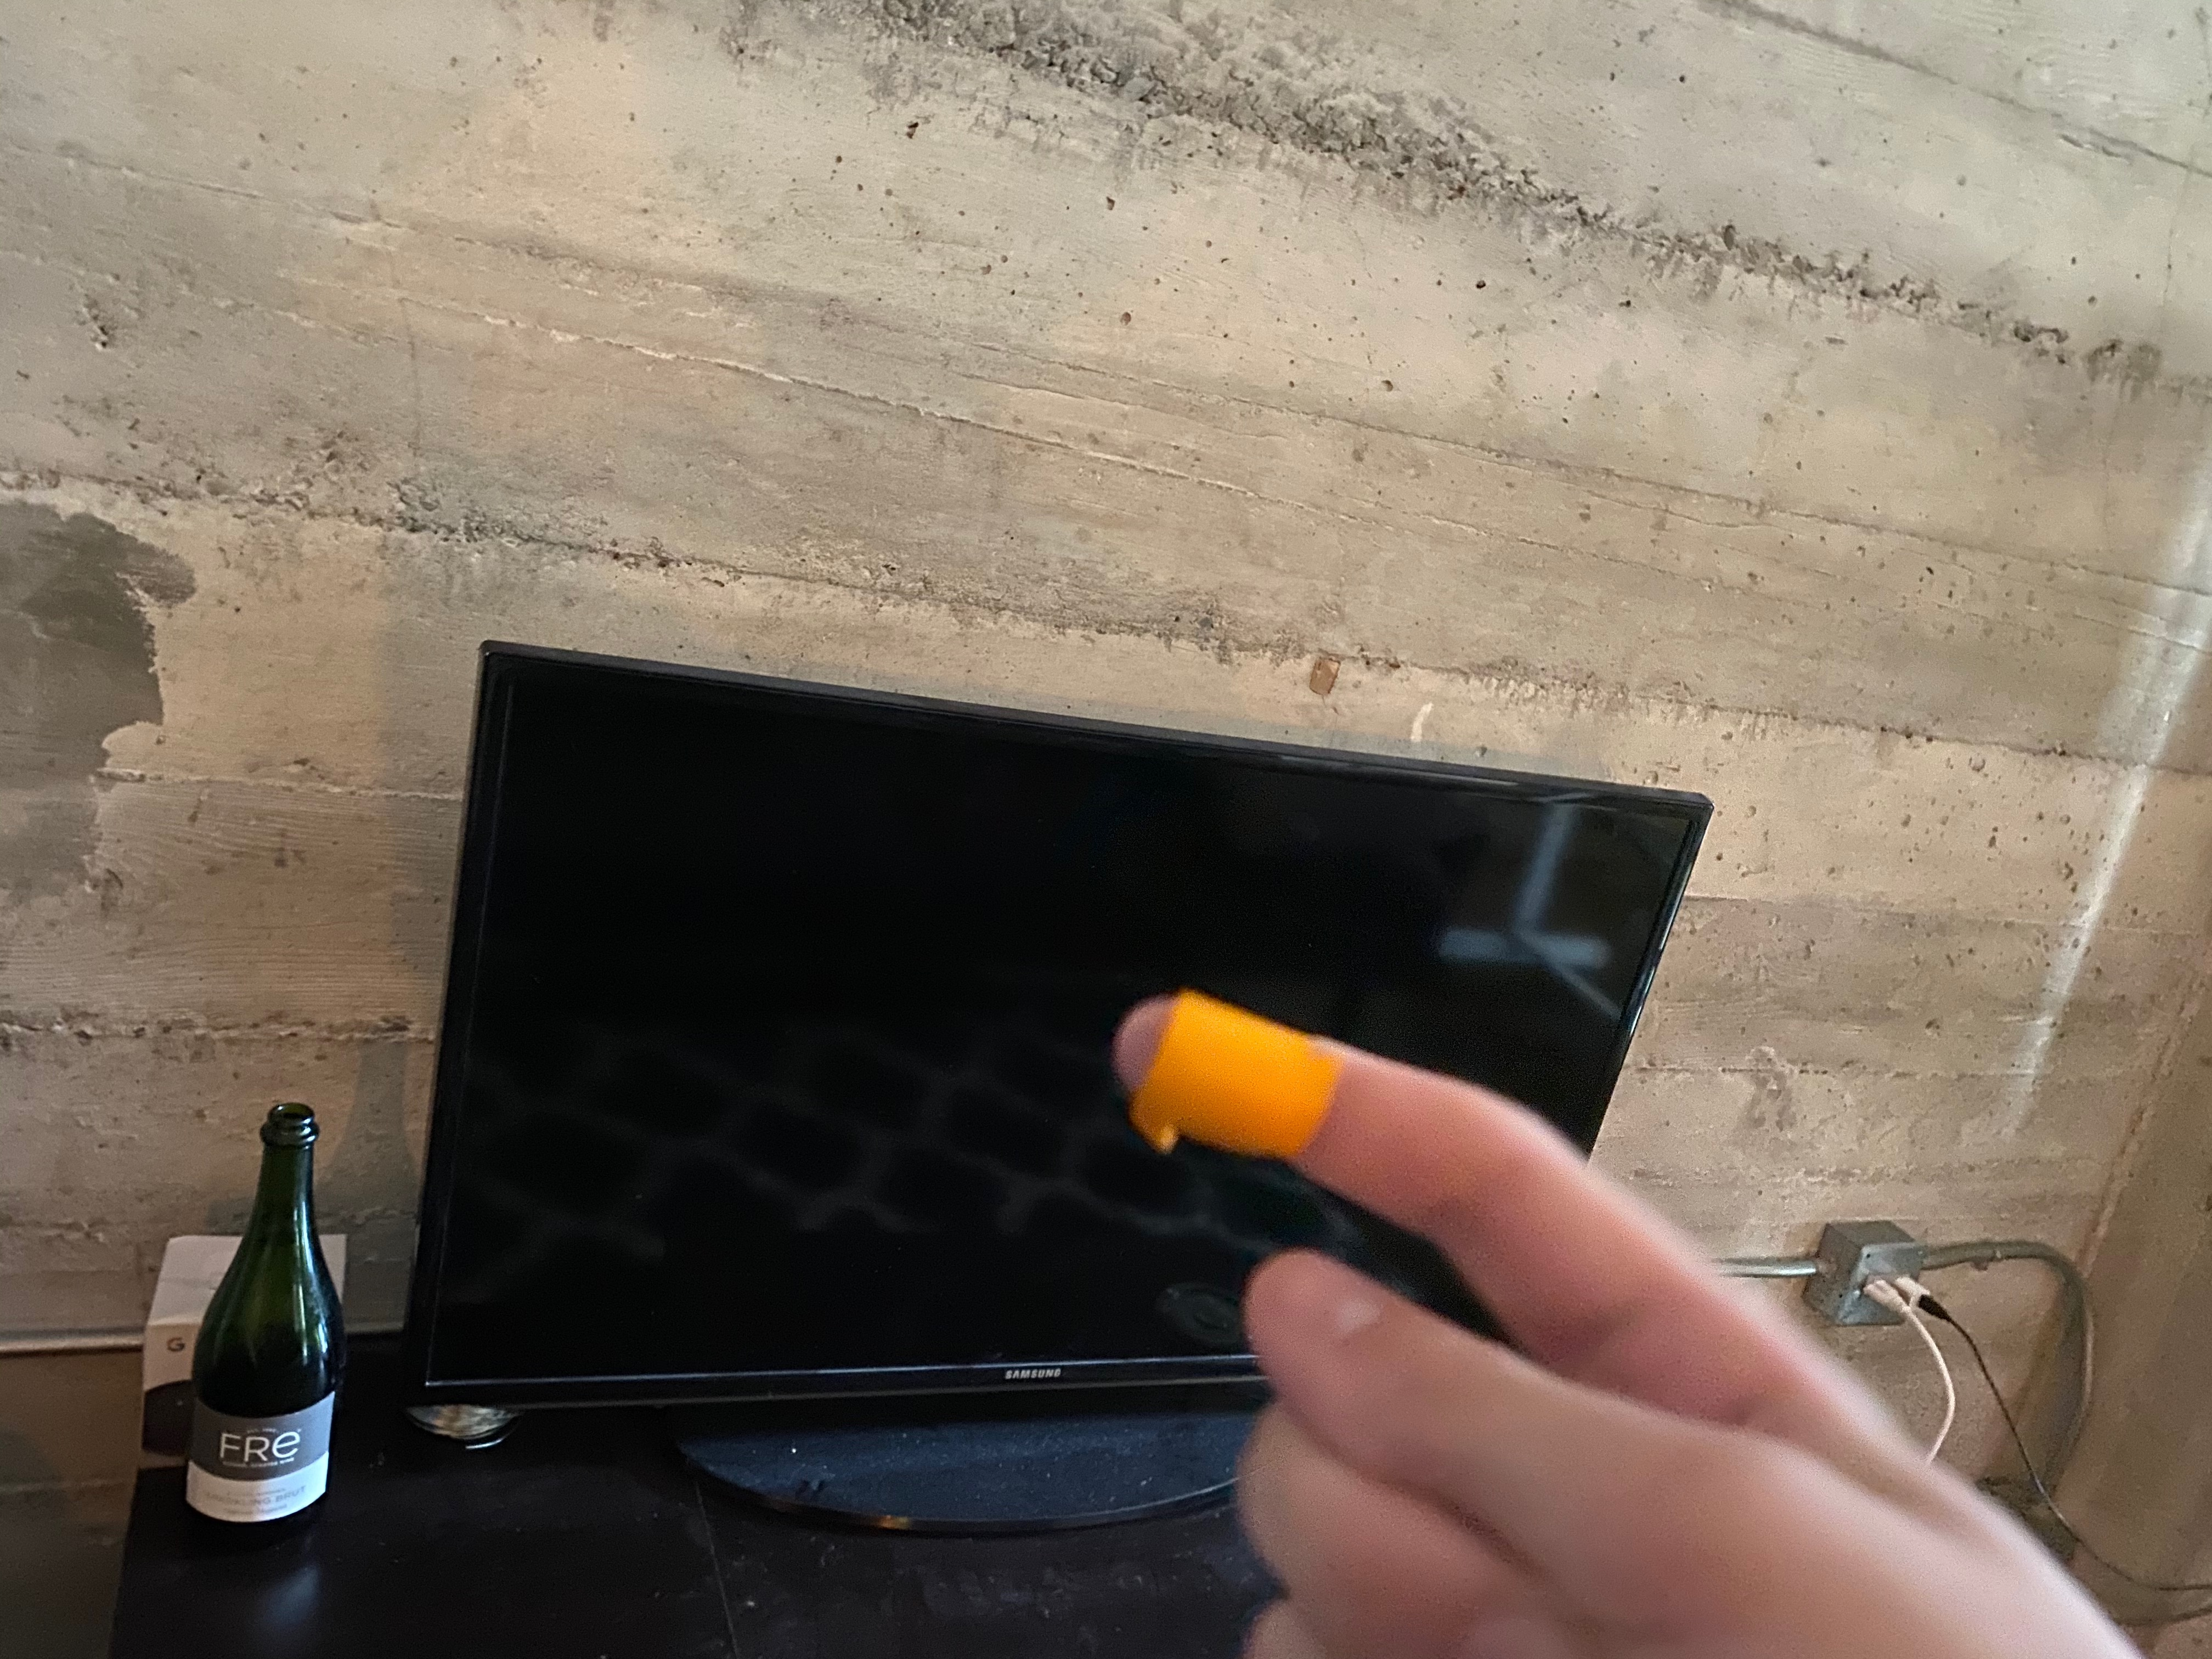fingertip: (1089, 974, 1345, 1187)
